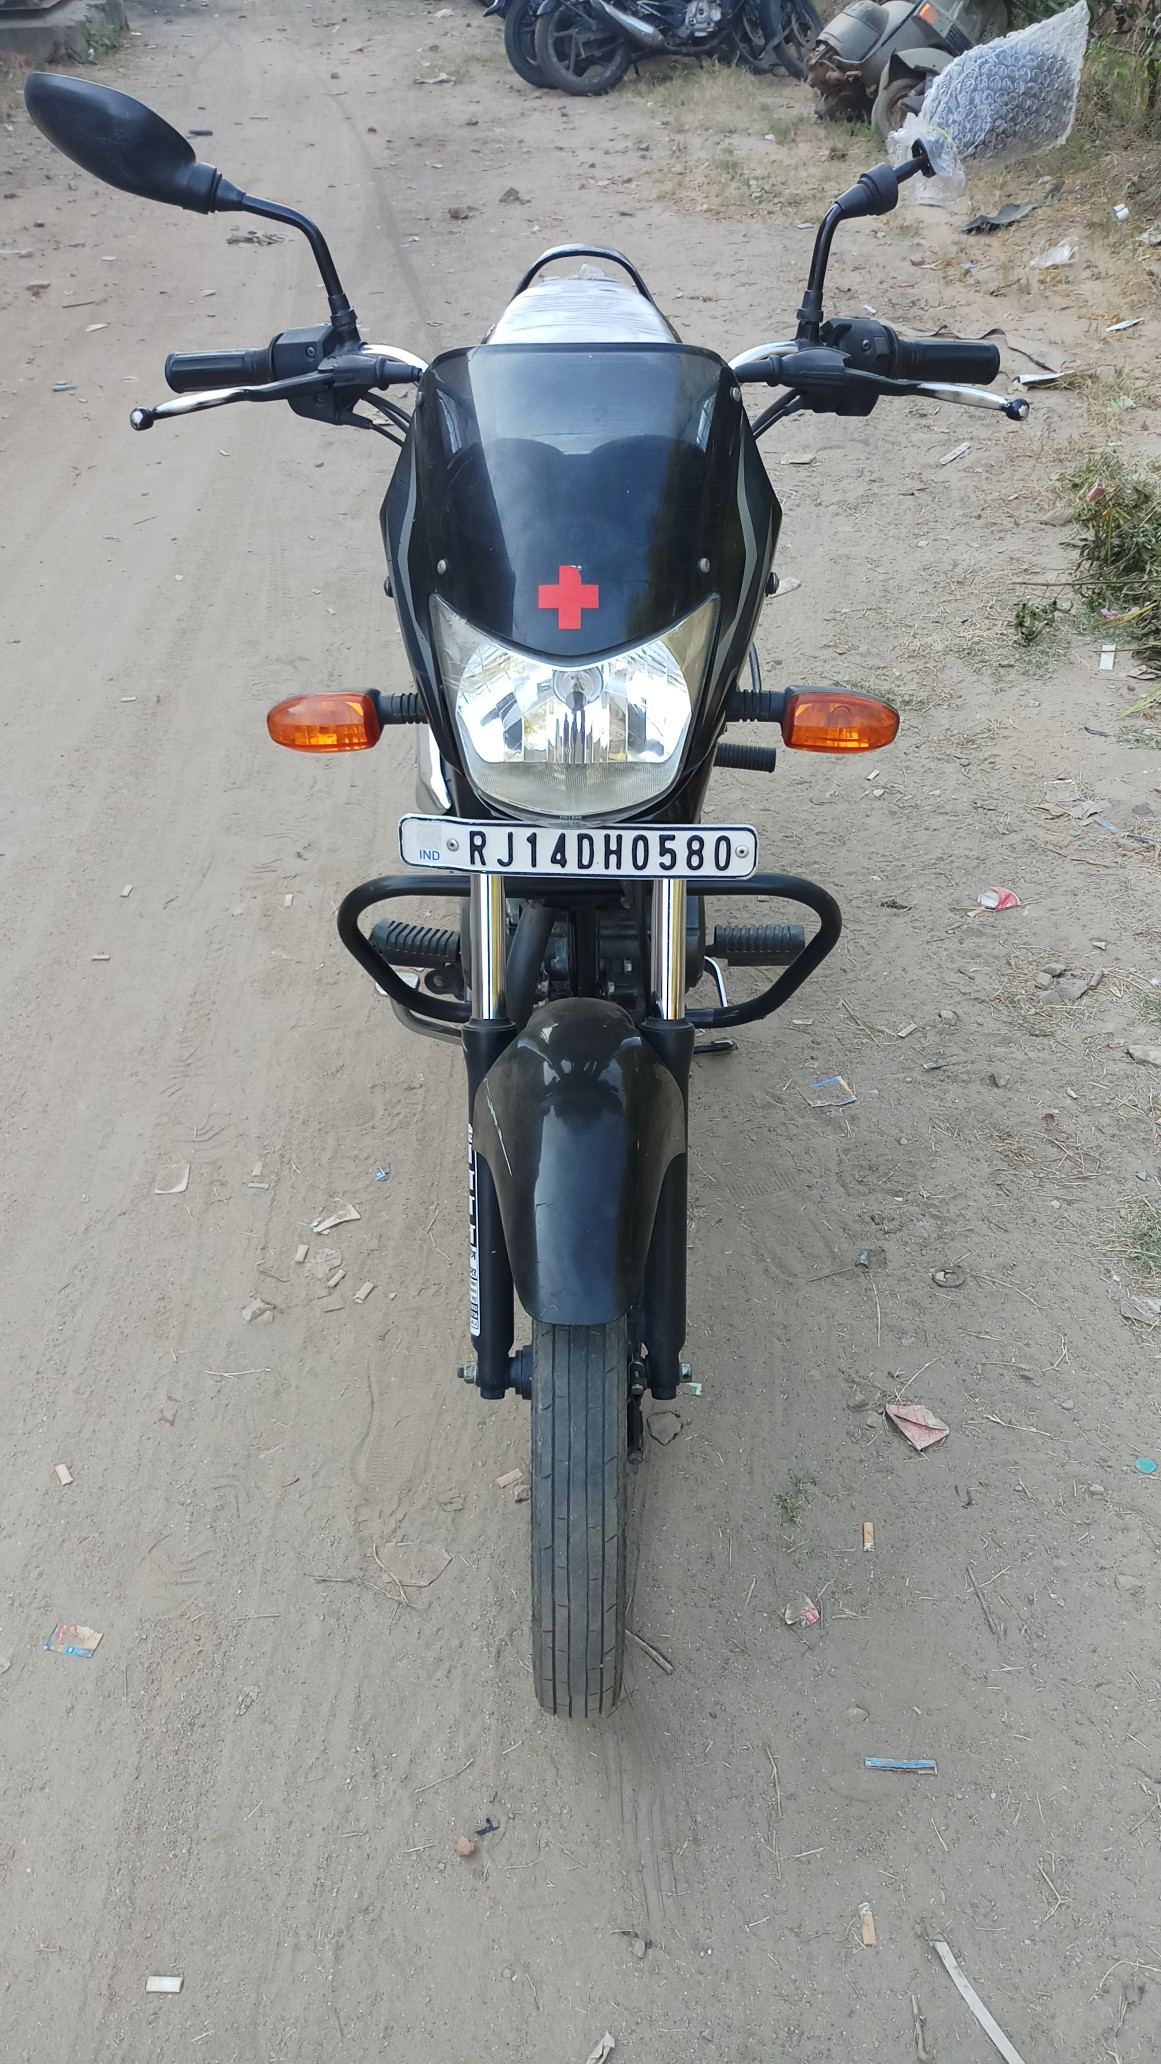bike: (28, 35, 1019, 1783)
